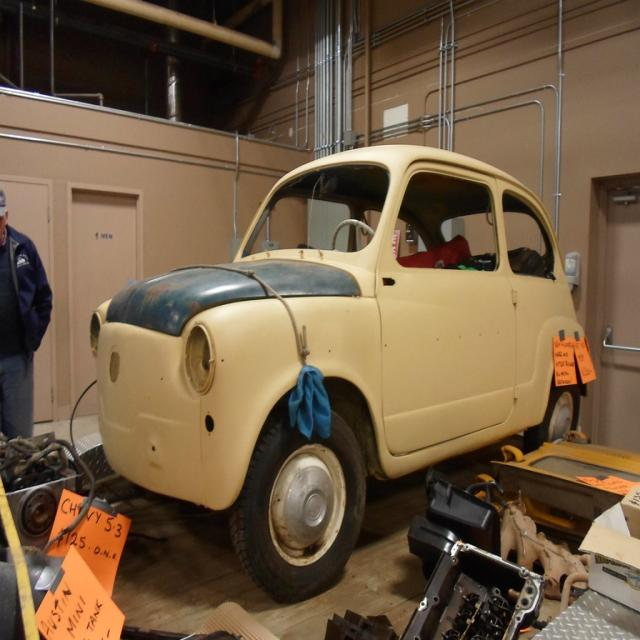car: (76, 135, 606, 586)
